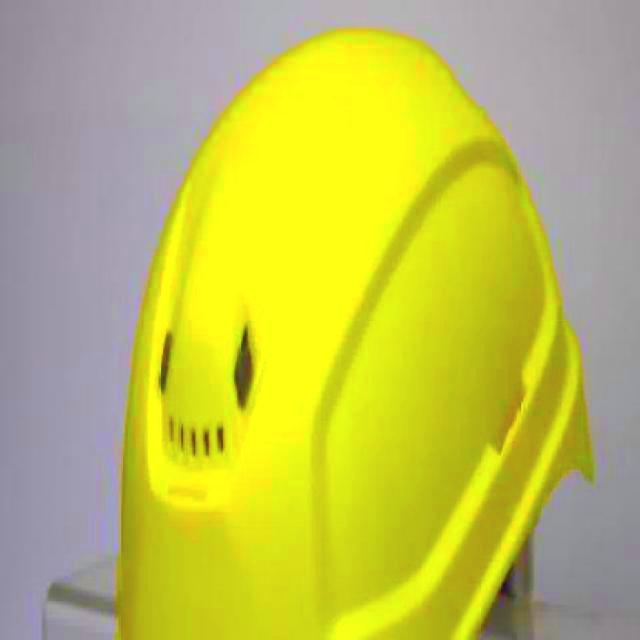Helmet: (114, 29, 596, 638)
